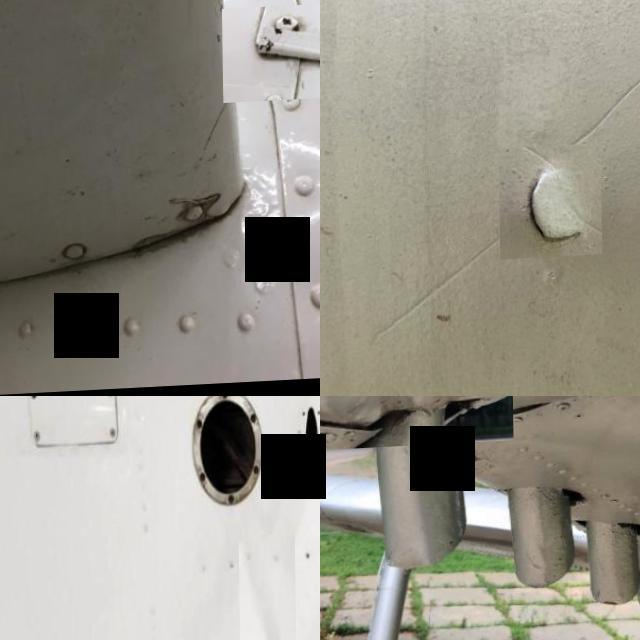Crack: (104, 157, 238, 276), (498, 147, 600, 262), (221, 9, 320, 108)
Dent: (320, 396, 512, 452), (238, 540, 281, 640)
